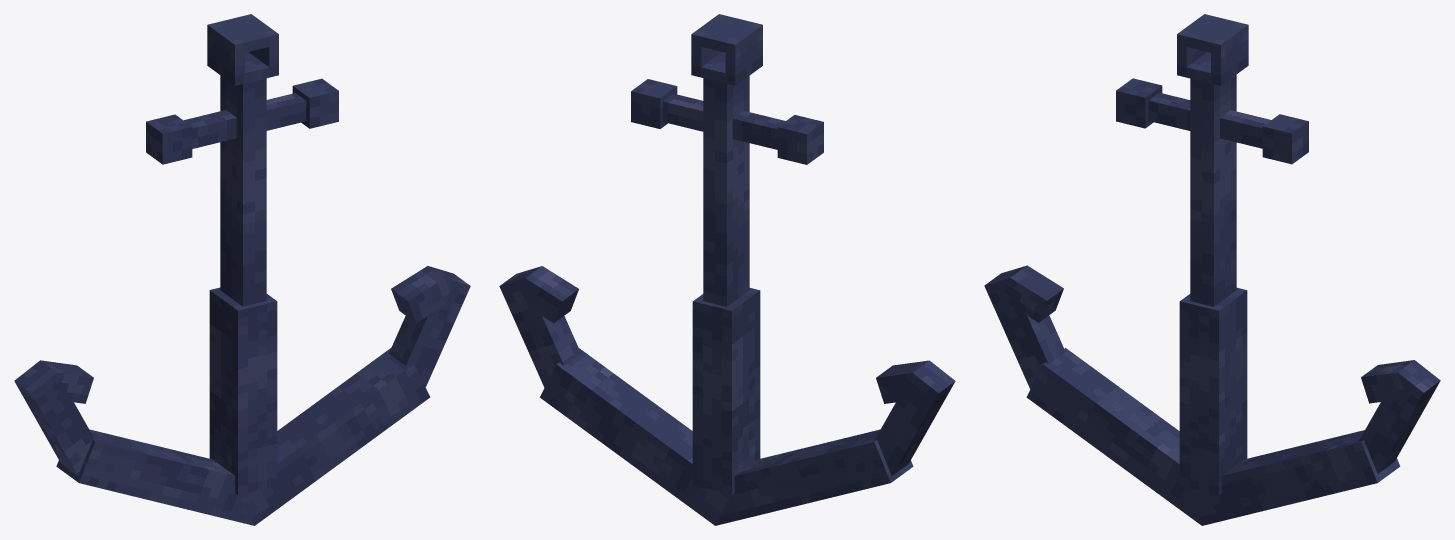
Rendered from anchor.obj.
3 renders of one model, left to right at view 1: azimuth 30°, elevation 25°; view 2: azimuth 150°, elevation 25°; view 3: azimuth 330°, elevation 25°, orthographic.
Parts seen in each view (by area): view 1: cube, lower_shank, arm_left, upper_shank, arm_right, stock_end_right, stock_end_left, stock_arm_left, stock_arm_right; view 2: cube, lower_shank, arm_left, upper_shank, arm_right, stock_end_right, stock_end_left, stock_arm_left, stock_arm_right; view 3: cube, lower_shank, arm_right, upper_shank, arm_left, stock_end_left, stock_end_right, stock_arm_right, stock_arm_left.
Boxes of the visible parts, <box> form: cube: <box>14,14,470,475</box>; lower_shank: <box>209,287,277,494</box>; arm_left: <box>239,348,430,525</box>; upper_shank: <box>220,75,266,306</box>; arm_right: <box>56,429,254,525</box>; stock_end_right: <box>146,114,192,164</box>; stock_end_left: <box>292,78,338,128</box>; stock_arm_left: <box>184,110,236,148</box>; stock_arm_right: <box>266,93,306,130</box>; cube: <box>499,14,955,475</box>; lower_shank: <box>692,288,760,495</box>; arm_left: <box>540,348,730,525</box>; upper_shank: <box>703,76,749,306</box>; arm_right: <box>715,429,913,525</box>; stock_end_right: <box>777,115,823,164</box>; stock_end_left: <box>631,79,677,128</box>; stock_arm_left: <box>732,110,785,149</box>; stock_arm_right: <box>663,94,703,131</box>; cube: <box>984,14,1440,473</box>; lower_shank: <box>1179,287,1247,494</box>; arm_right: <box>1026,348,1201,525</box>; upper_shank: <box>1190,74,1236,306</box>; arm_left: <box>1186,430,1400,525</box>; stock_end_left: <box>1262,114,1308,164</box>; stock_end_right: <box>1116,78,1162,128</box>; stock_arm_right: <box>1220,110,1270,148</box>; stock_arm_left: <box>1148,92,1190,130</box>.
Bounding box in the file's own units: 1.4 × 1.49 × 0.1562.
